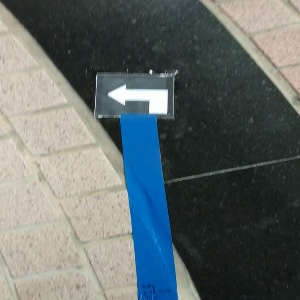left: (95, 73, 174, 118)
